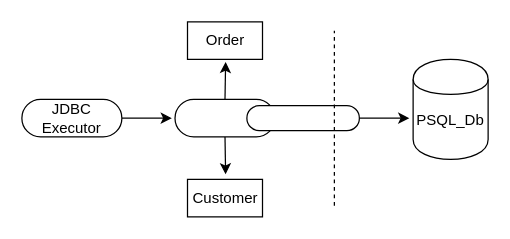
The diagram is 510 pixels wide and 239 high, and some of its shapes have lost their labels. Each missing label, with the centre of its shape:
DAO: point 224,117
JDBC: point 302,117
